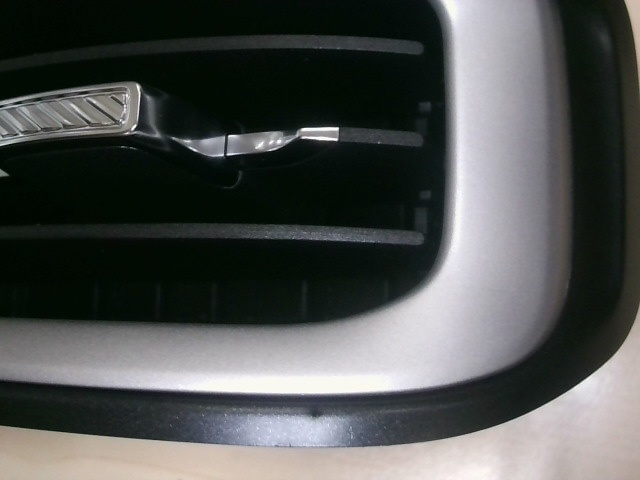NG: (263, 435, 310, 451)
